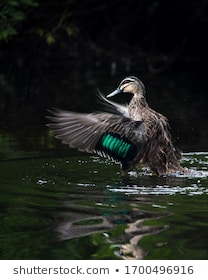duck: (35, 62, 198, 187)
